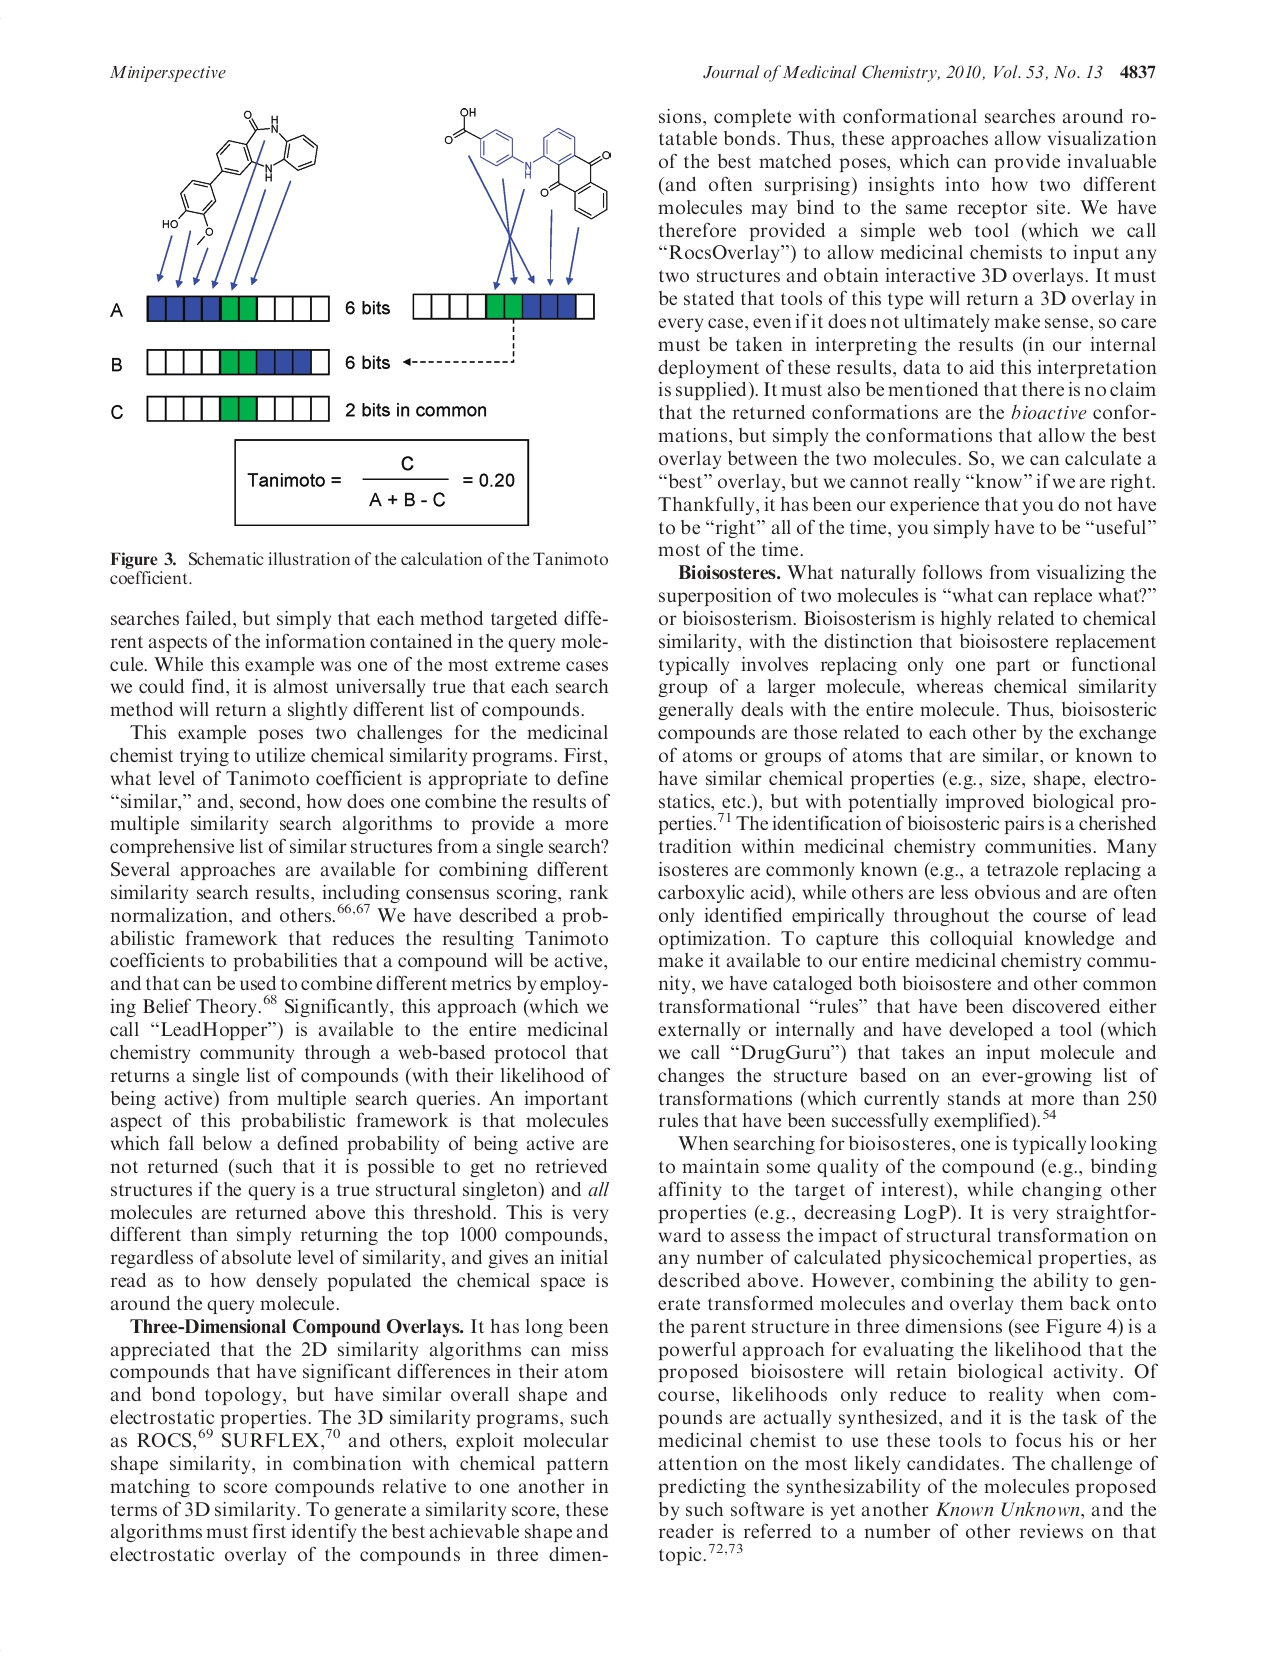exist_molecular: (440, 98, 616, 226), (164, 105, 328, 235)
